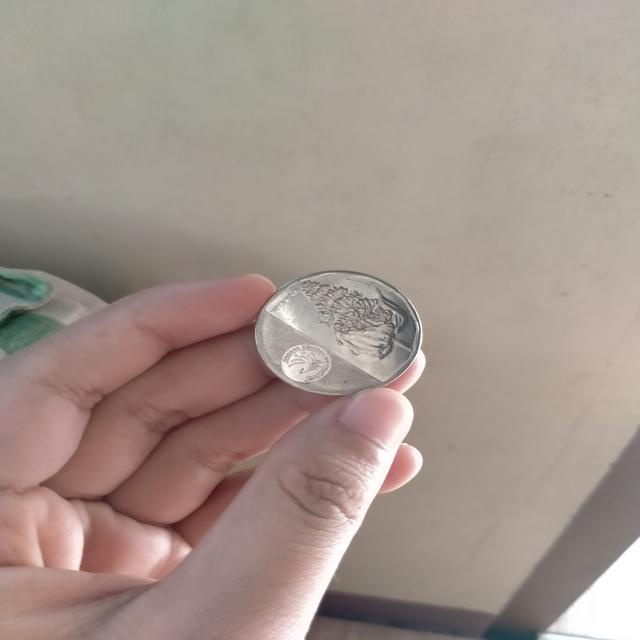10_New_Back: (282, 276, 417, 360)
